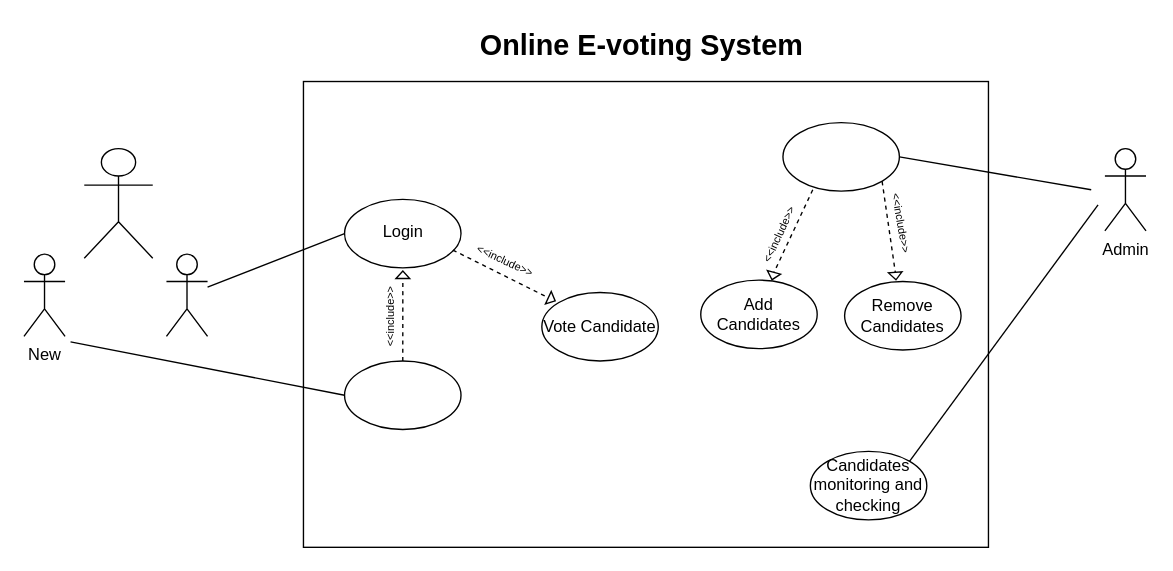
Some shapes in this 1173 by 571 pixel diagram are drawn without their labels. The centre of each missing label's shape, as x and y in pixels:
Existing: (186,294)
Modifying Candidates: (840,156)
Registration: (402,394)
User: (118,202)
